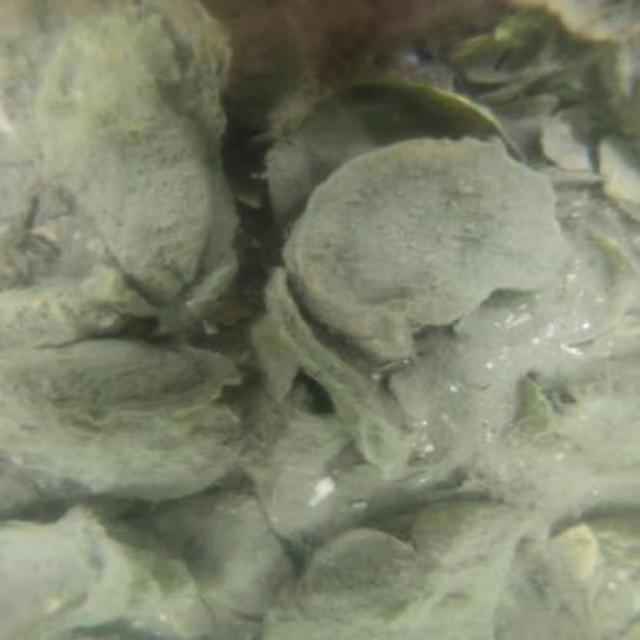Oyster-Closed: (284, 138, 567, 360), (37, 23, 215, 305), (2, 381, 247, 499), (264, 548, 517, 640), (4, 338, 240, 423), (148, 492, 296, 617), (498, 518, 636, 640), (301, 526, 420, 605), (0, 277, 131, 344), (415, 500, 523, 562)
